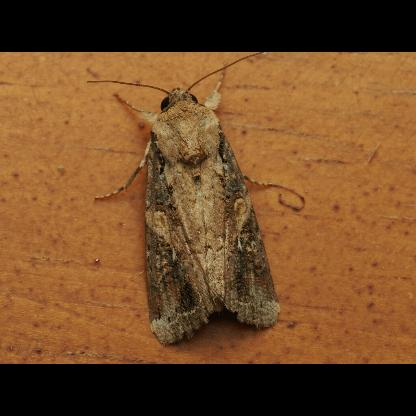Fall Armyworm Moth: (85, 52, 307, 350)
